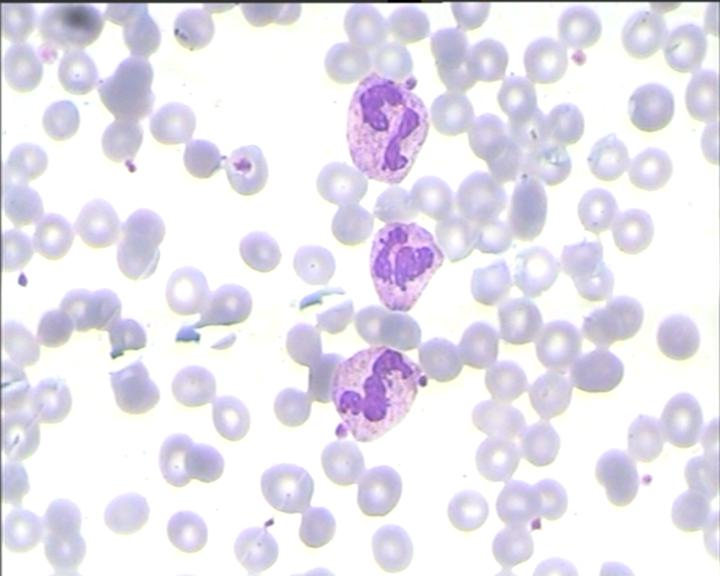neut: (340, 75, 430, 184), (330, 347, 423, 443), (367, 220, 443, 313)
